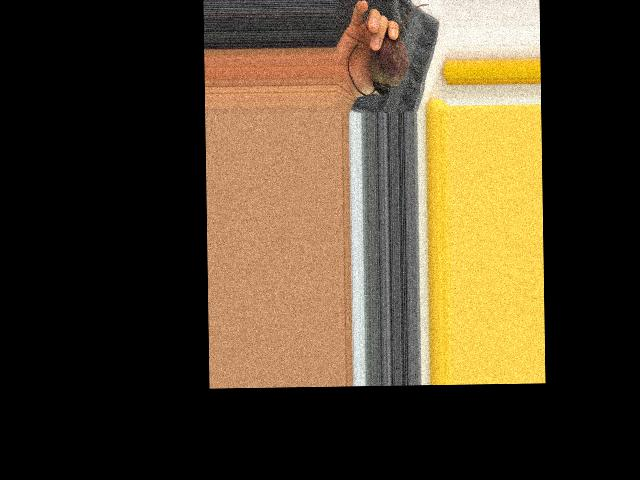beet: (346, 3, 429, 95)
